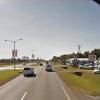Car: (20, 59, 35, 80)
